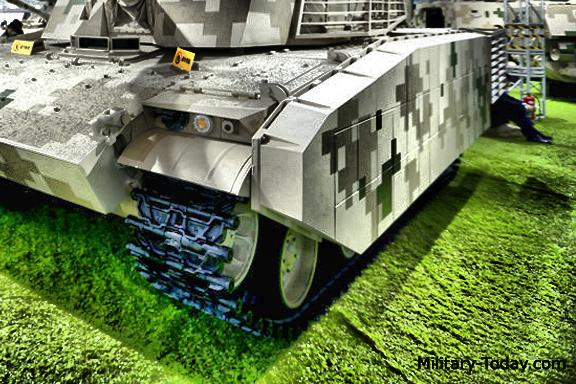tanks: (1, 1, 504, 333), (42, 1, 53, 2)
